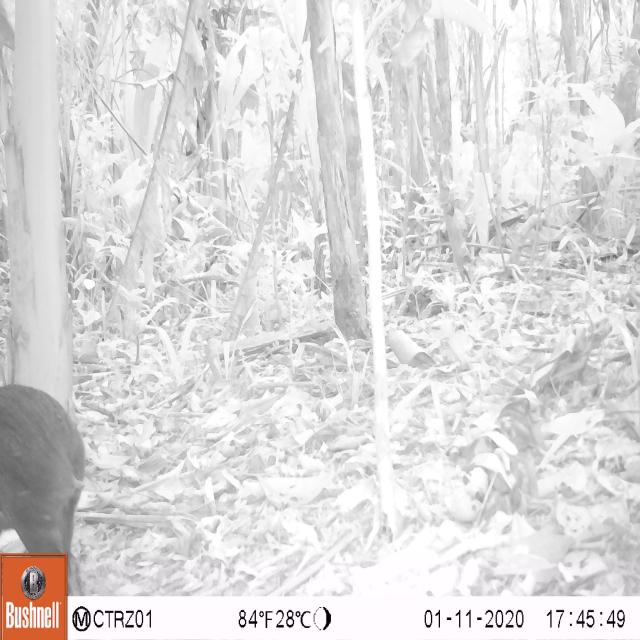Black Agouti: (0, 382, 90, 563)
